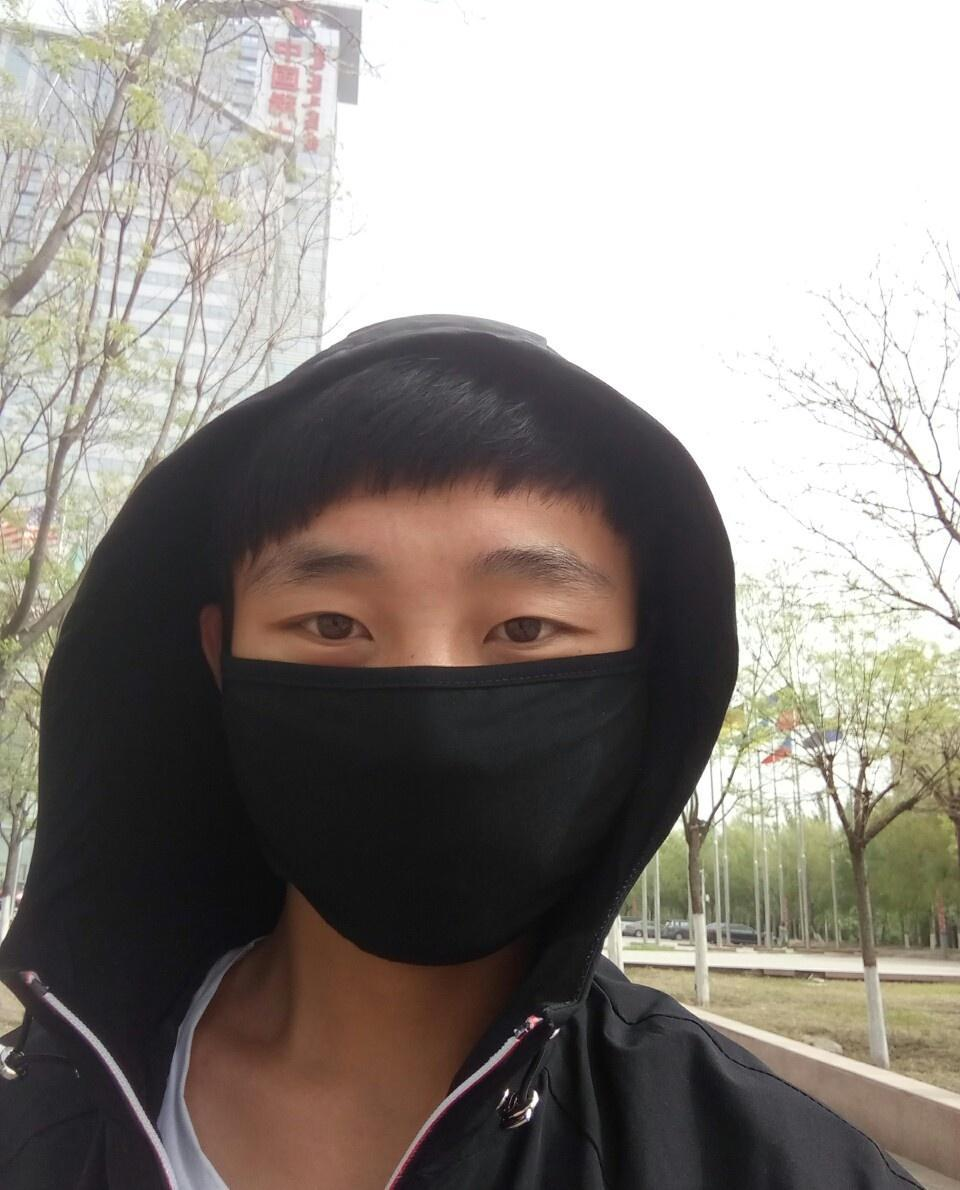OK: (209, 508, 662, 961)
